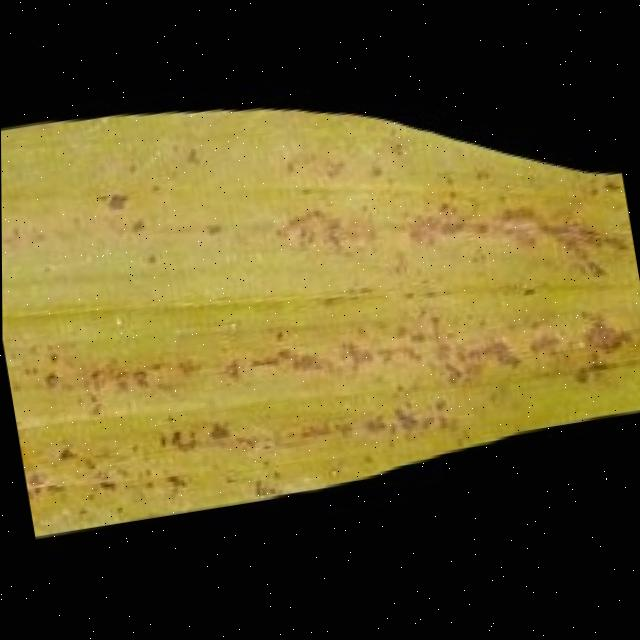mite: (1, 29, 640, 542), (1, 118, 272, 534), (156, 413, 237, 455), (104, 187, 132, 211), (42, 367, 62, 389), (129, 215, 149, 235), (57, 443, 79, 461)
